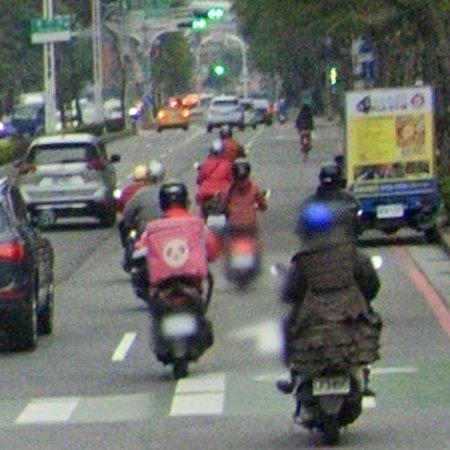motorcycles: (150, 274, 214, 378)
